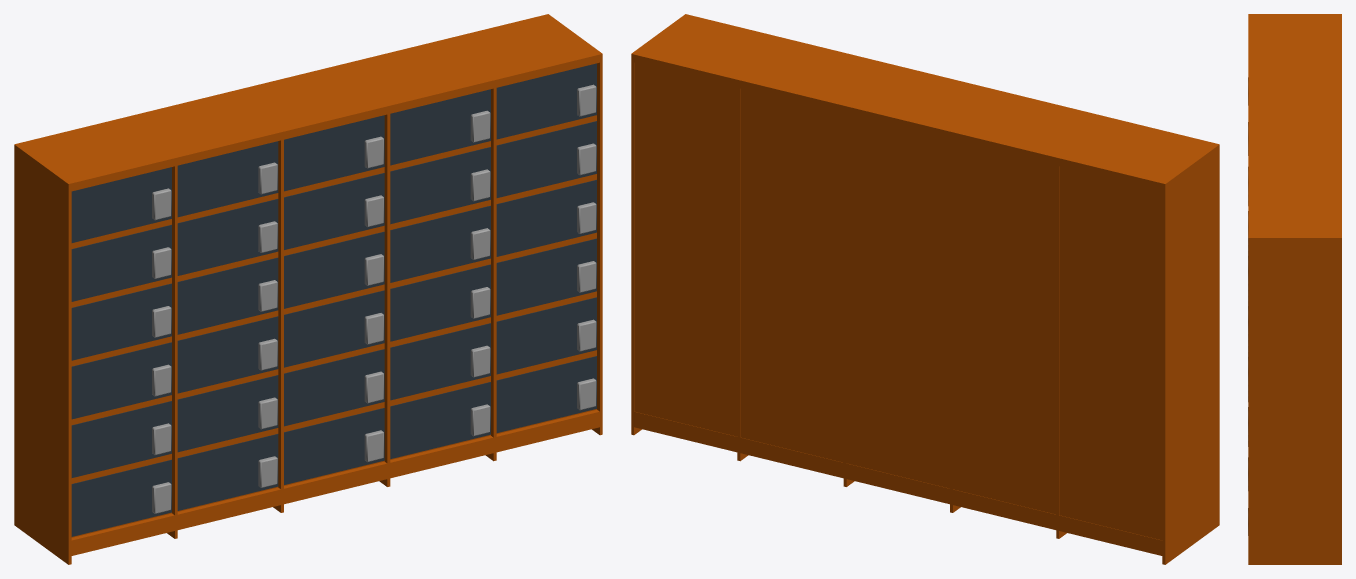
The picture shows the model from 3 angles, left to right: view 1: azimuth 30°, elevation 25°; view 2: azimuth 150°, elevation 25°; view 3: azimuth 270°, elevation 25°; orthographic projection. The views are drawn at different scales.
Parts seen in each view (by area): view 1: panel_cabinet; view 2: panel_cabinet; view 3: panel_cabinet.
Boxes of the visible parts, bbox=[...] form: panel_cabinet: bbox=[14, 14, 602, 564]; panel_cabinet: bbox=[631, 14, 1219, 564]; panel_cabinet: bbox=[1248, 14, 1341, 564].
Bounding box in the file's own units: 1.8 × 1.22 × 0.318.
